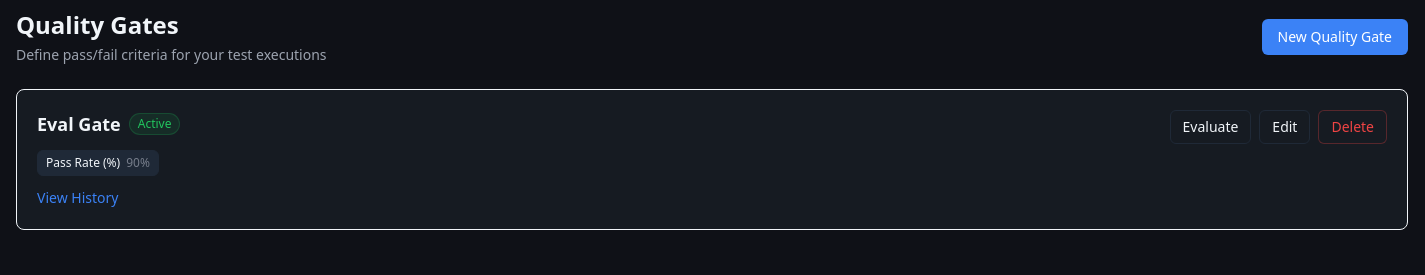
QualityGatesPage › shows toast error when evaluate mutation fails
Step 1. Click the button "Evaluate" → coordinates (1210, 127), box [1170, 110, 1251, 144]
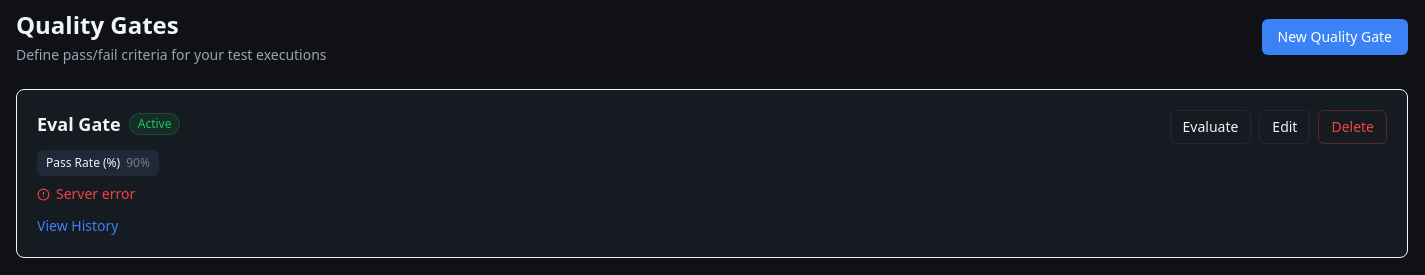
Check: the text "Server error" is shown, box [37, 184, 135, 203]
